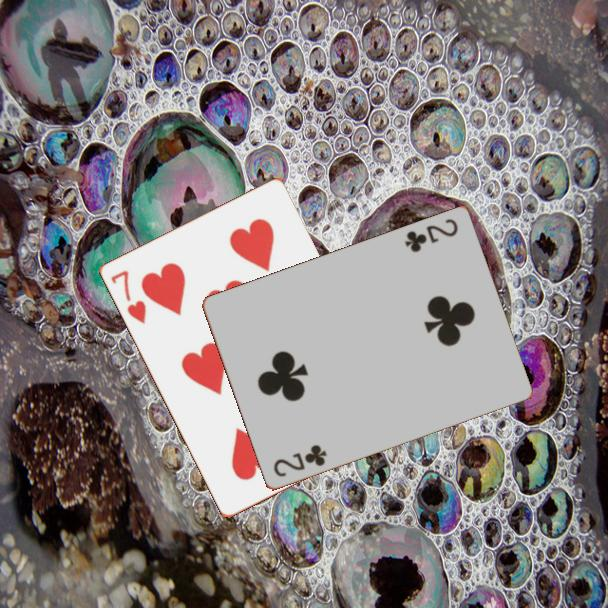c02: (401, 216, 461, 256), (270, 441, 330, 480)
h07: (107, 267, 149, 327)
